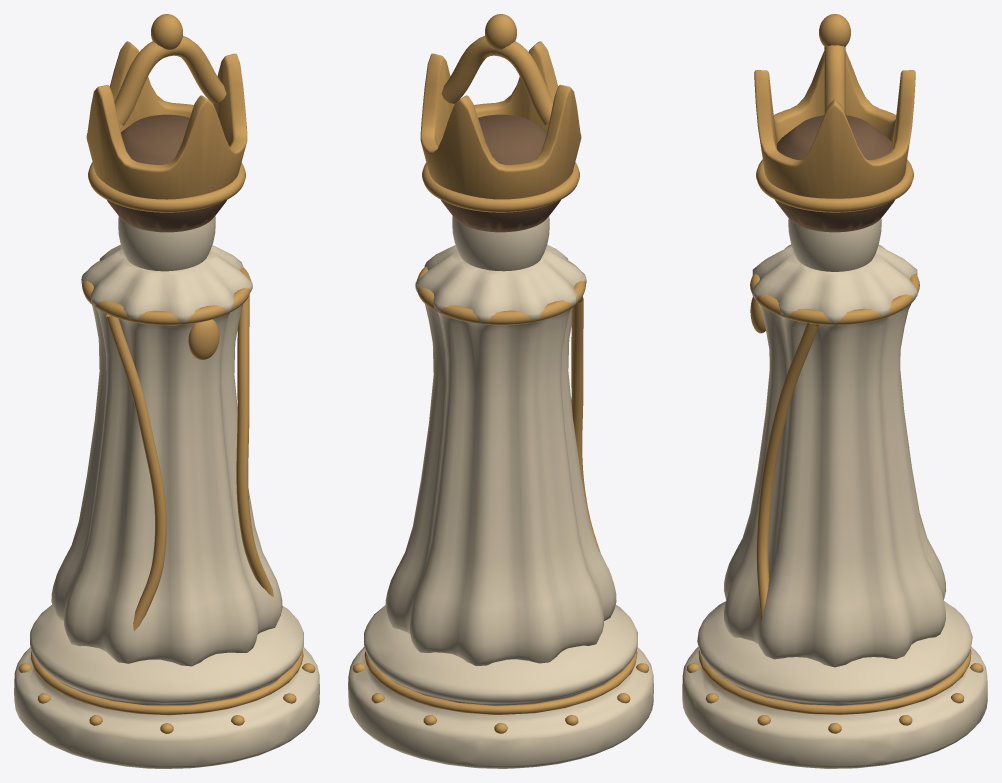
Rendered from king.glb.
3 renders of one model, left to right at view 1: azimuth 30°, elevation 25°; view 2: azimuth 150°, elevation 25°; view 3: azimuth 270°, elevation 25°, orthographic.
Visible parts, largest first — view 1: PIECE_King_Sculpture, PIECE_King_Base; view 2: PIECE_King_Sculpture, PIECE_King_Base; view 3: PIECE_King_Sculpture, PIECE_King_Base.
Part boxes in pixels (x1,y1,x2,y2): PIECE_King_Sculpture: (51,14,282,666); PIECE_King_Base: (14,605,319,768); PIECE_King_Sculpture: (385,14,616,665); PIECE_King_Base: (348,605,653,768); PIECE_King_Sculpture: (723,14,946,667); PIECE_King_Base: (682,601,987,768).
Size of the model in its own units: 0.719 by 1.8 by 0.719.
